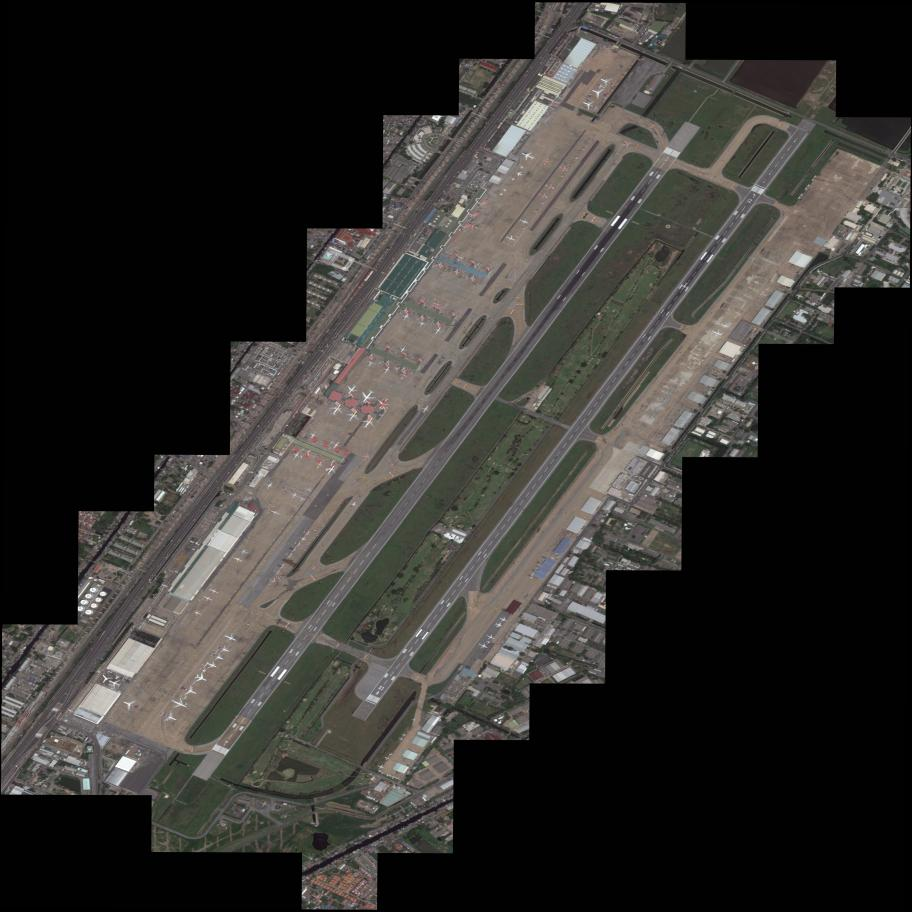plane: (157, 707, 181, 727), (357, 387, 379, 407), (589, 83, 611, 103), (167, 694, 190, 713), (178, 681, 201, 700), (120, 695, 142, 714), (358, 413, 379, 432), (326, 400, 347, 419), (373, 394, 394, 413), (342, 407, 363, 425), (597, 73, 618, 91), (580, 96, 600, 113), (343, 380, 361, 398), (322, 462, 340, 478), (221, 631, 240, 646), (518, 148, 537, 163), (105, 676, 123, 691), (214, 642, 232, 657), (193, 671, 210, 686), (208, 650, 226, 664), (708, 326, 725, 340), (204, 659, 220, 672), (330, 438, 343, 452), (98, 672, 113, 684), (503, 233, 518, 245), (536, 190, 550, 202), (306, 429, 319, 441), (419, 403, 432, 415), (678, 280, 690, 293), (432, 324, 445, 336), (399, 311, 412, 323), (676, 372, 689, 384), (664, 387, 676, 400), (268, 507, 282, 518), (186, 678, 200, 689), (207, 586, 221, 597), (431, 298, 443, 310), (540, 156, 552, 168), (646, 410, 658, 422), (658, 395, 670, 407), (397, 370, 410, 381), (347, 500, 360, 511), (313, 459, 326, 470), (290, 450, 303, 461), (237, 546, 250, 557), (202, 593, 215, 604), (232, 554, 245, 565), (381, 364, 394, 375), (477, 641, 490, 652), (557, 164, 570, 175), (543, 182, 556, 193), (651, 403, 664, 414), (360, 452, 372, 463), (365, 358, 377, 369), (397, 344, 409, 355), (198, 666, 211, 676), (191, 608, 204, 618), (747, 254, 760, 264), (484, 632, 497, 642), (517, 217, 530, 227), (301, 528, 313, 538), (288, 545, 300, 555), (284, 551, 296, 561), (276, 562, 288, 572), (268, 576, 280, 586), (179, 693, 191, 703), (416, 319, 428, 329), (467, 221, 479, 231), (264, 481, 275, 491), (719, 321, 730, 331), (498, 615, 509, 625), (272, 568, 284, 577), (258, 800, 270, 809), (595, 82, 607, 91), (620, 139, 632, 148), (494, 620, 504, 630), (298, 535, 309, 544), (293, 540, 304, 549), (211, 647, 222, 656), (289, 491, 299, 500), (200, 662, 210, 671), (376, 763, 385, 772), (304, 486, 314, 494), (794, 292, 804, 300), (514, 170, 524, 178), (298, 495, 307, 503), (120, 675, 128, 683), (753, 279, 760, 287), (817, 268, 823, 275), (485, 639, 492, 645), (398, 736, 405, 742), (384, 755, 390, 762), (401, 732, 407, 738), (510, 176, 516, 182), (184, 701, 189, 707), (550, 556, 556, 561), (380, 771, 386, 776), (498, 192, 504, 197), (502, 188, 508, 193), (384, 773, 391, 777), (388, 752, 393, 757), (519, 165, 524, 170), (388, 774, 394, 778), (411, 718, 416, 722), (377, 769, 382, 773)
